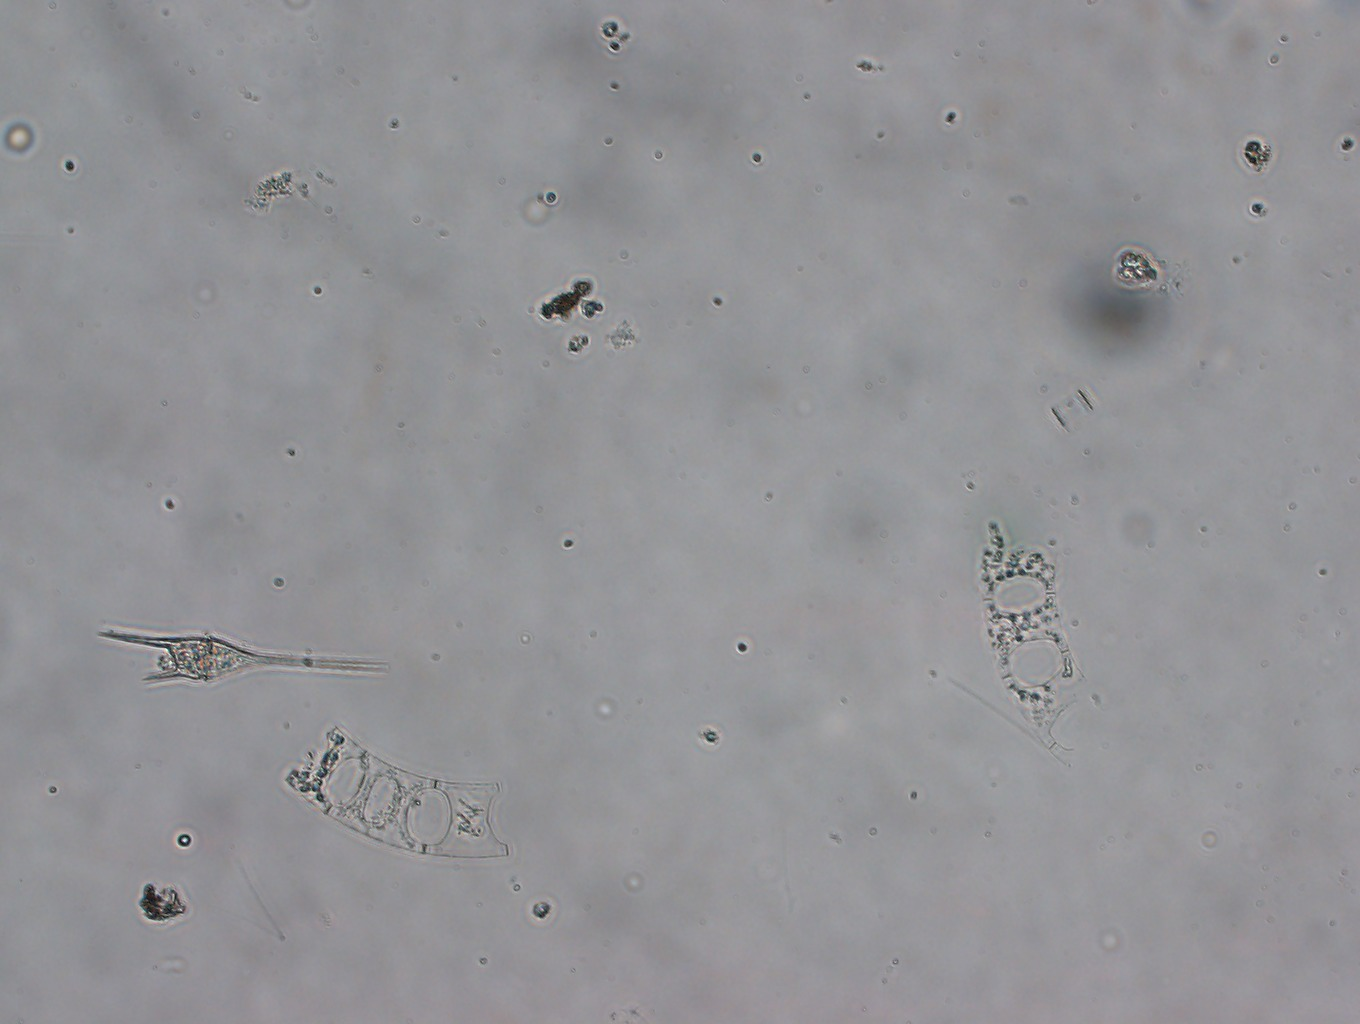ceratium furca: (94, 630, 390, 686)
eucampia: (280, 723, 512, 858), (978, 517, 1106, 763)
